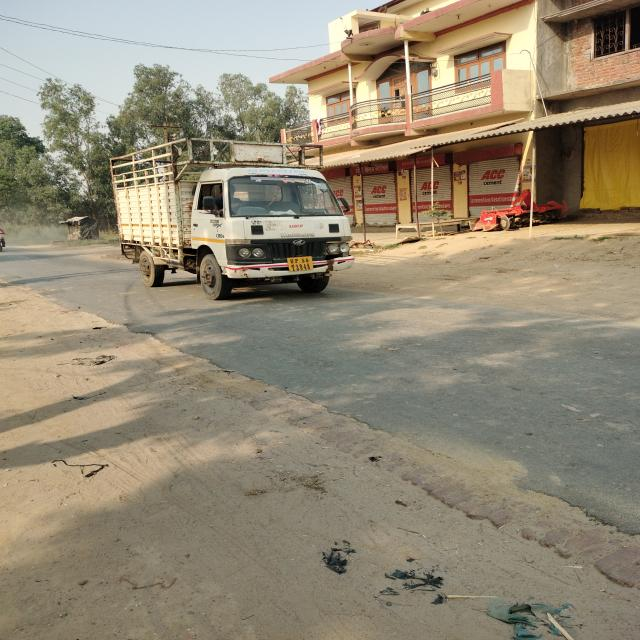tempo: (94, 128, 349, 310)
